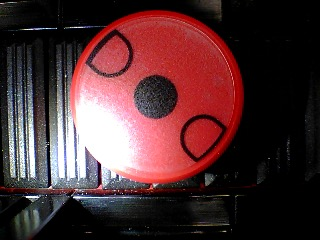BOHOMIPO2: (70, 10, 245, 184)
